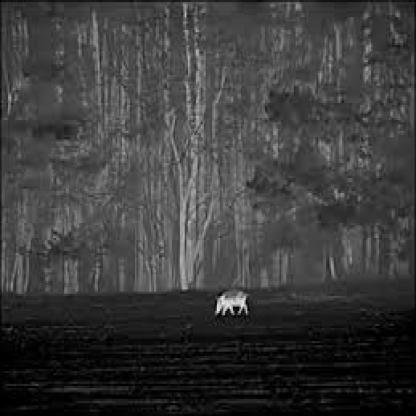rehkitze: (212, 288, 251, 319)
